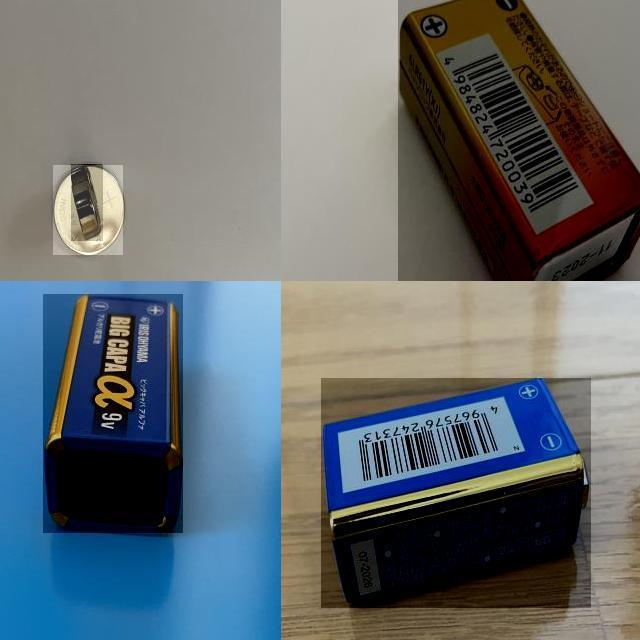9V: (398, 0, 640, 281), (322, 379, 592, 609), (43, 294, 183, 533)
